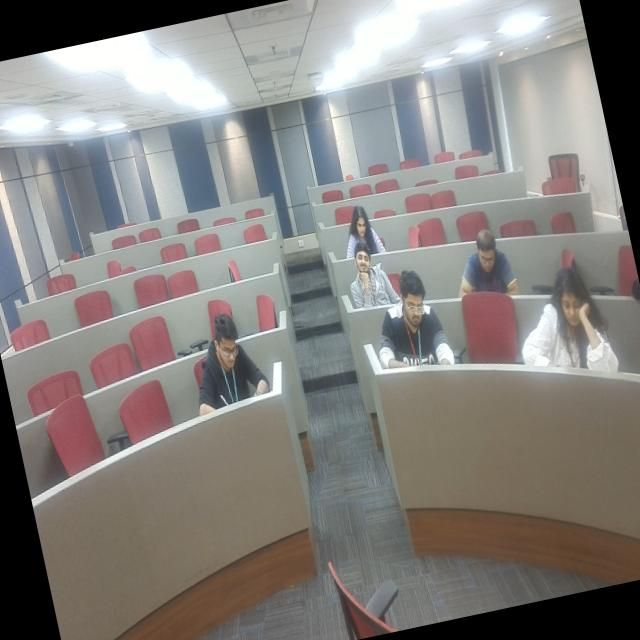non-cheating: (434, 175, 536, 315), (366, 254, 455, 396), (524, 274, 612, 407), (180, 299, 270, 425), (331, 234, 395, 313), (340, 196, 377, 244)
